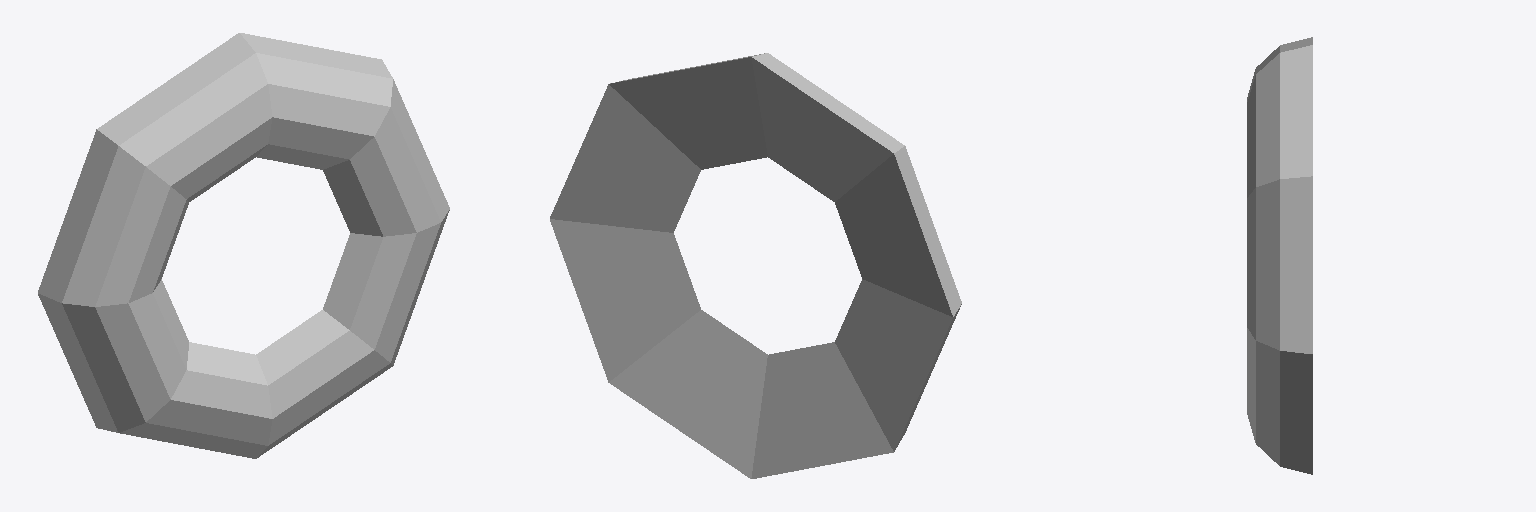
The model's file is donut.obj.
3 renders of one model, left to right at view 1: azimuth 30°, elevation 25°; view 2: azimuth 150°, elevation 25°; view 3: azimuth 270°, elevation 25°, orthographic.
Visible parts, largest first — view 1: donut; view 2: donut; view 3: donut.
Boxes of the visible parts, x1,y1,x2,y2 form: donut: [38, 33, 449, 458]; donut: [550, 53, 961, 478]; donut: [1247, 37, 1312, 474].
Bounding box in the file's own units: 2.8 × 2.8 × 0.4.